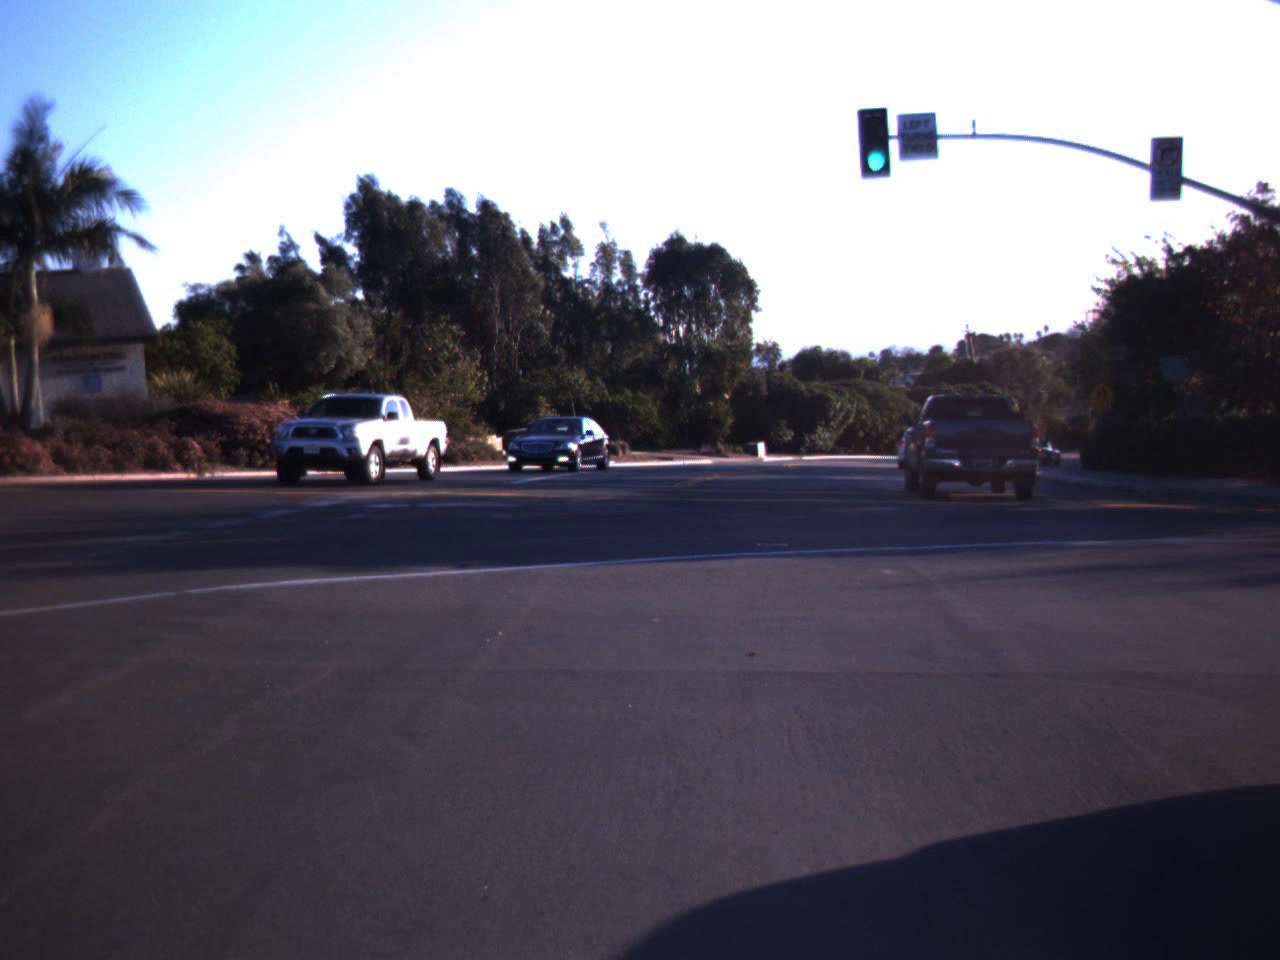go: (862, 94, 880, 179)
